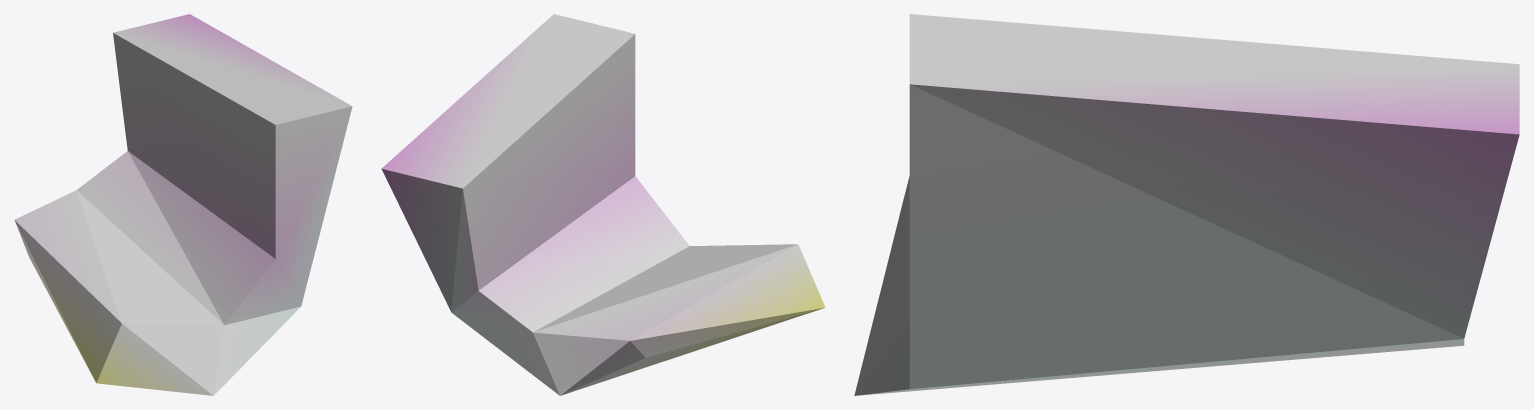
The picture shows the model from 3 angles, left to right: view 1: azimuth 30°, elevation 25°; view 2: azimuth 150°, elevation 25°; view 3: azimuth 270°, elevation 25°; orthographic projection. The views are drawn at different scales.
Visible parts, largest first — view 1: model_10FE; view 2: model_10FE; view 3: model_10FE.
Part boxes in pixels (x1,y1,x2,y2): model_10FE: (14, 14, 352, 395); model_10FE: (381, 14, 825, 395); model_10FE: (854, 14, 1519, 395).
Bounding box in the file's own units: 10 × 9 × 12.
